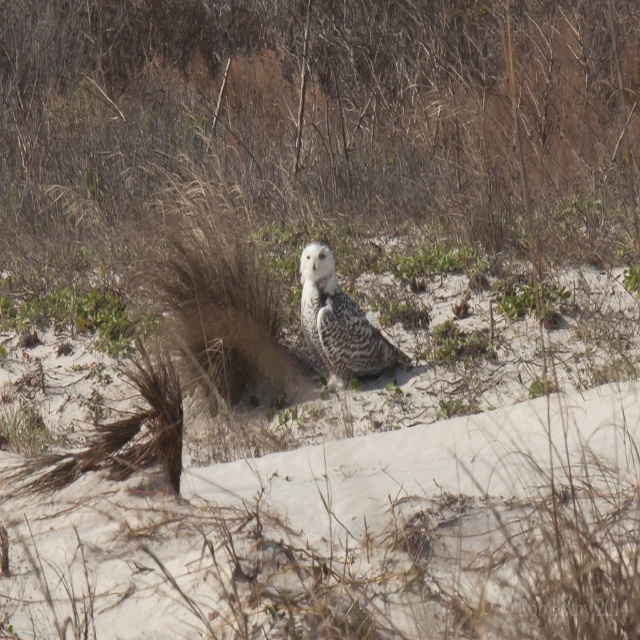Owl: (300, 241, 415, 395)
